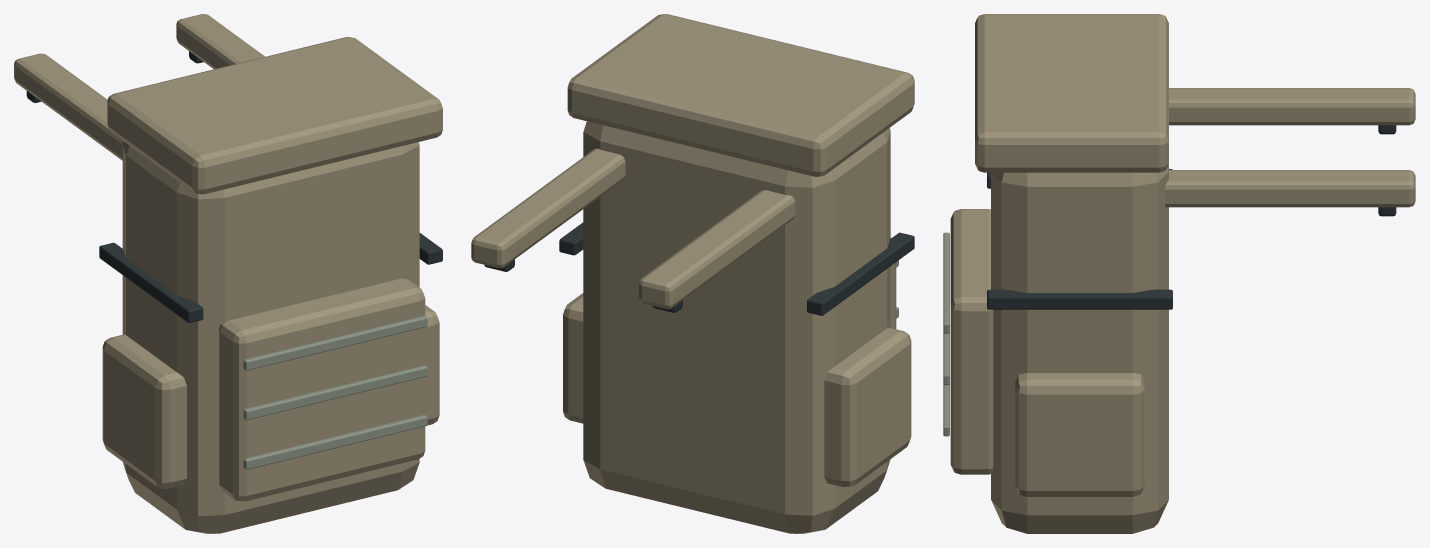
Rendered from backpack_hauler.glb.
The picture shows the model from 3 angles, left to right: view 1: azimuth 30°, elevation 25°; view 2: azimuth 150°, elevation 25°; view 3: azimuth 270°, elevation 25°; orthographic projection. The views are drawn at different scales.
Visible parts, largest first — view 1: backpack_hauler; view 2: backpack_hauler; view 3: backpack_hauler.
Part boxes in pixels (x1=…): backpack_hauler: x1=14, y1=14, x2=442, y2=533; backpack_hauler: x1=471, y1=14, x2=914, y2=533; backpack_hauler: x1=943, y1=14, x2=1415, y2=533.
Size of the model in its own units: 0.419 by 0.5655 by 0.584.
